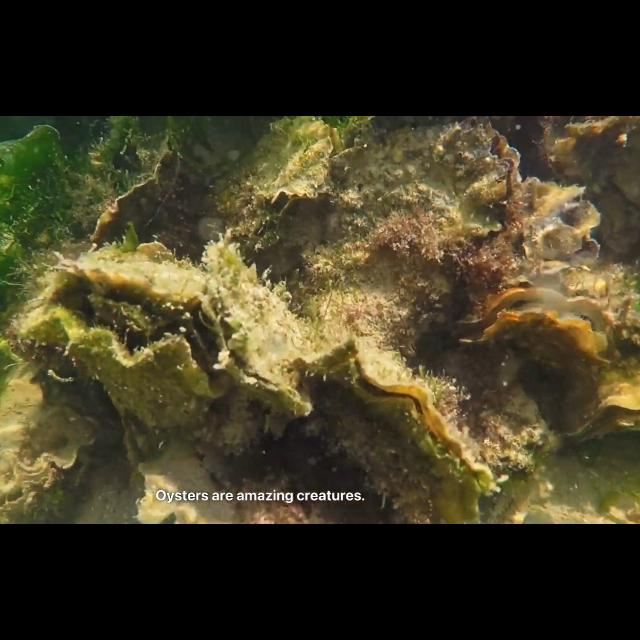Oyster-Closed: (86, 134, 196, 244)
Oyster-Open: (318, 116, 520, 358), (287, 328, 489, 520), (19, 249, 233, 429), (196, 232, 312, 413), (455, 281, 617, 371), (538, 117, 640, 256), (0, 401, 101, 513), (502, 173, 600, 279), (246, 134, 334, 220), (550, 378, 640, 442), (213, 174, 280, 250), (117, 406, 157, 486)
